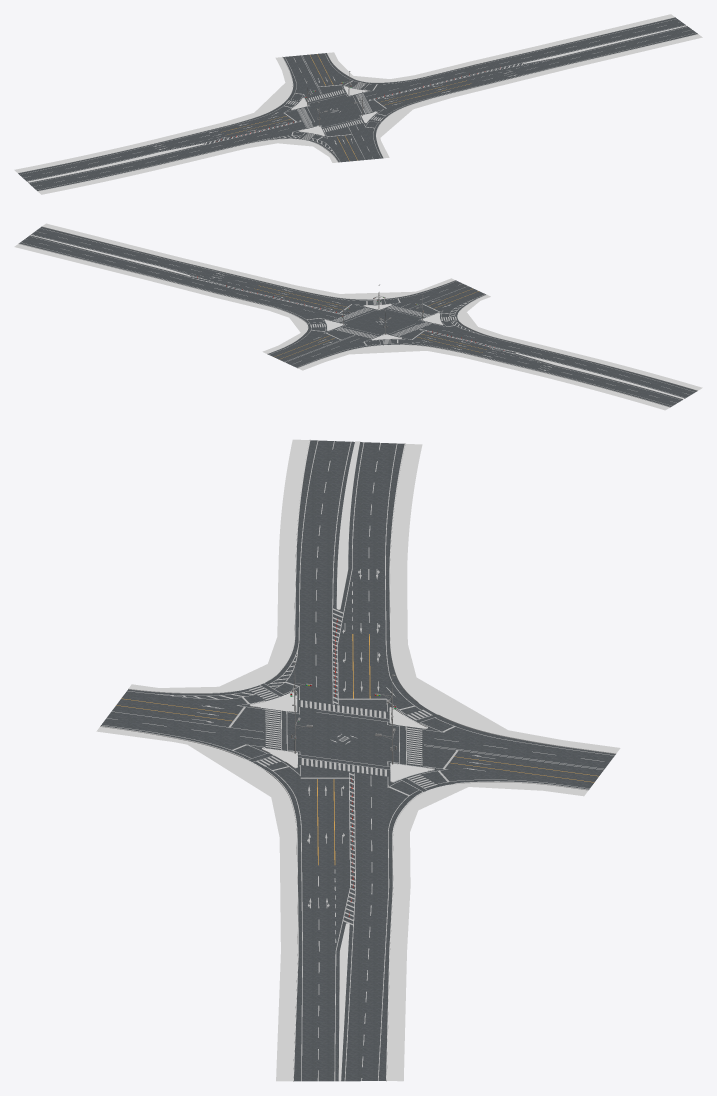
The model's file is モデル.FBX.
3 views of the same model, one above another, from view 1: azimuth 30°, elevation 25°; view 2: azimuth 150°, elevation 25°; view 3: azimuth 270°, elevation 25° (orthographic). The views are drawn at different scales.
Visible parts, largest first — view 1: 車道, 仮歩道, マーキング-白色, 縁石LOFT002, 縁石LOFT001, 島地6, 縁石LOFT003, 縁石LOFT004, マーキング-黄色; view 2: 車道, 仮歩道, マーキング-白色, 縁石LOFT001, 縁石LOFT003, 縁石LOFT002, 島地6, マーキング-黄色, 縁石LOFT004; view 3: 車道, 仮歩道, マーキング-白色, 島地6, マーキング-黄色.
Boxes of the visible parts, <box> form: 車道: <box>18,17,697,190</box>; 仮歩道: <box>14,14,702,194</box>; マーキング-白色: <box>20,19,695,189</box>; 縁石LOFT002: <box>327,17,674,82</box>; 縁石LOFT001: <box>376,34,698,158</box>; 島地6: <box>27,143,203,182</box>; 縁石LOFT003: <box>18,56,293,173</box>; 縁石LOFT004: <box>37,138,338,191</box>; マーキング-黄色: <box>221,54,470,160</box>; 車道: <box>19,226,697,407</box>; 仮歩道: <box>14,223,702,410</box>; マーキング-白色: <box>21,228,695,405</box>; 縁石LOFT001: <box>42,226,455,299</box>; 縁石LOFT003: <box>298,344,670,407</box>; 縁石LOFT002: <box>18,243,308,353</box>; 島地6: <box>516,353,684,398</box>; マーキング-黄色: <box>254,285,486,359</box>; 縁石LOFT004: <box>457,294,697,390</box>; 車道: <box>101,440,615,1081</box>; 仮歩道: <box>96,439,620,1081</box>; マーキング-白色: <box>101,440,614,1081</box>; 島地6: <box>337,441,359,608</box>; マーキング-黄色: <box>116,634,598,865</box>.
Size of the model in its own units: 297 by 10.5 by 103.
